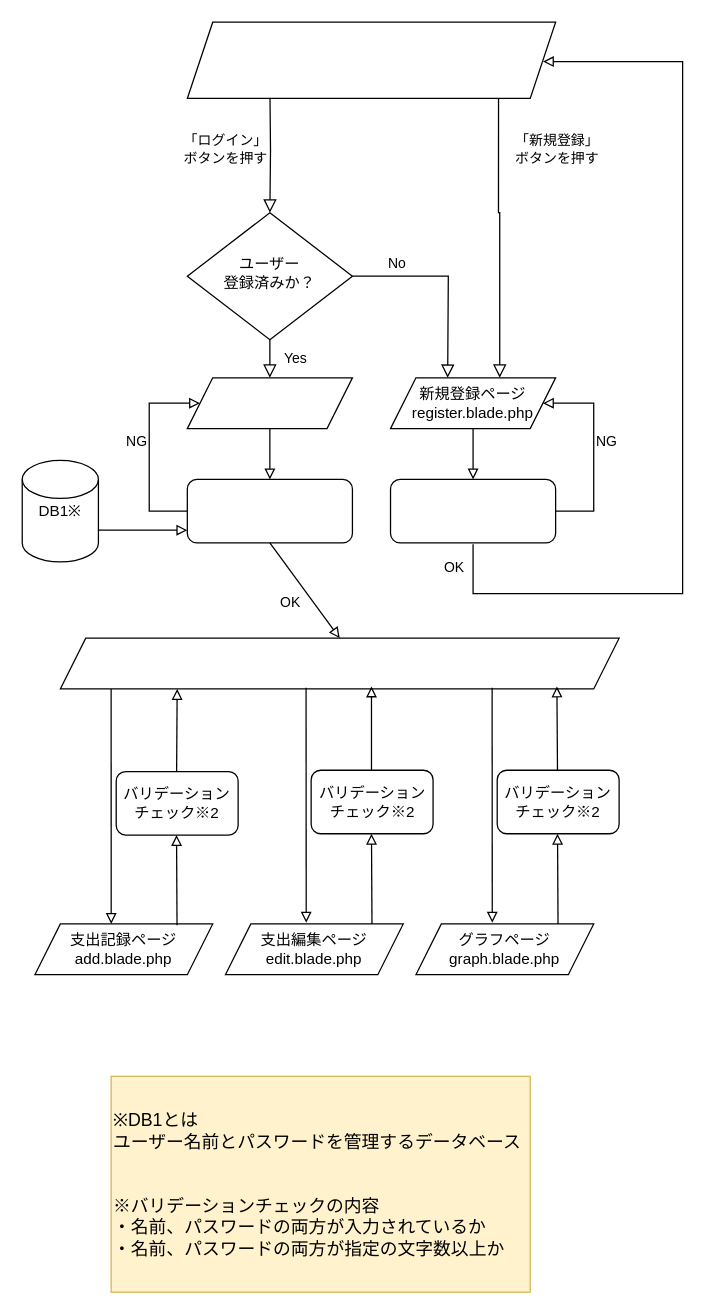
The diagram is 715 pixels wide and 1314 high, and some of its shapes have lost their labels. Here are the shapes that lost their labels. From the top down, the centre of each, then its label:
point 371,59: 初期ページ index.blade.php
point 269,403: ログインページ login.blade.php
point 269,510: DB1※と照合
point 472,510: バリデーション チェック※1
point 339,663: トップページ home.blade.php
